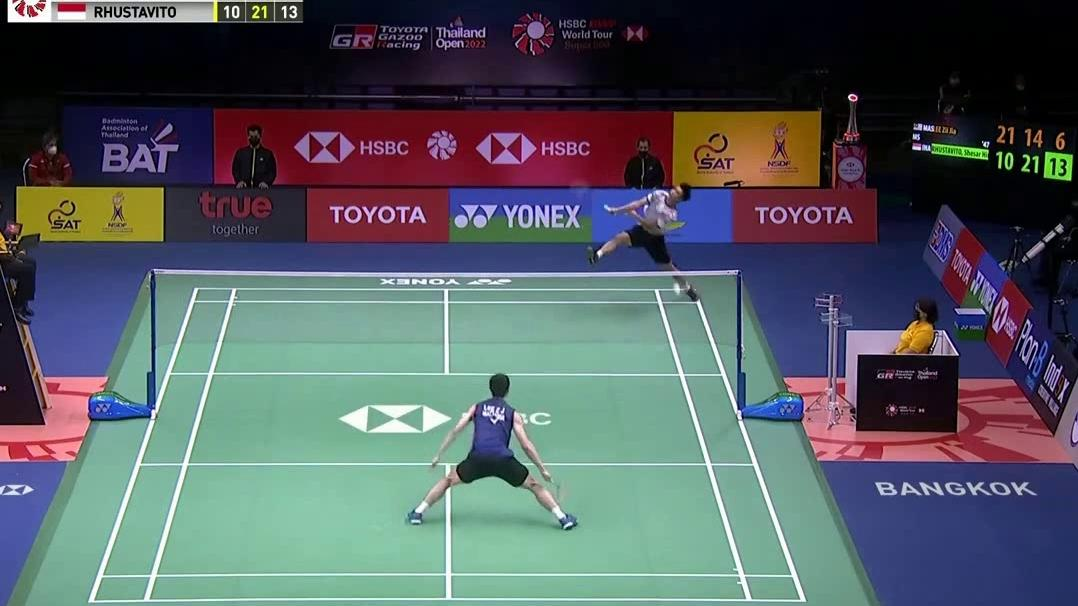racket: (567, 179, 617, 217), (544, 473, 569, 505)
shuttle: (672, 281, 682, 297)
